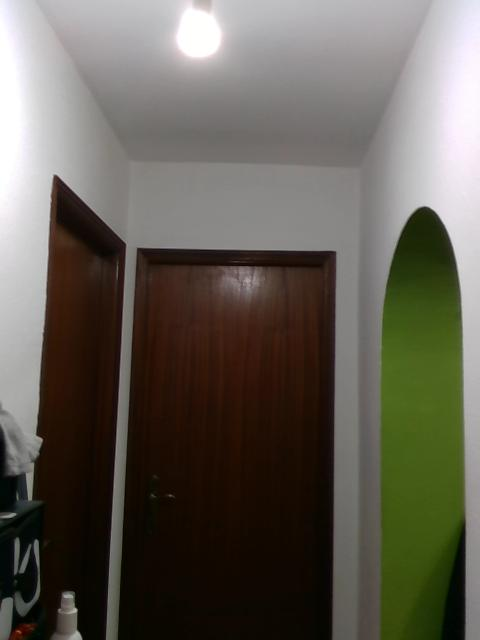door: (132, 267, 324, 640), (45, 214, 113, 640)
